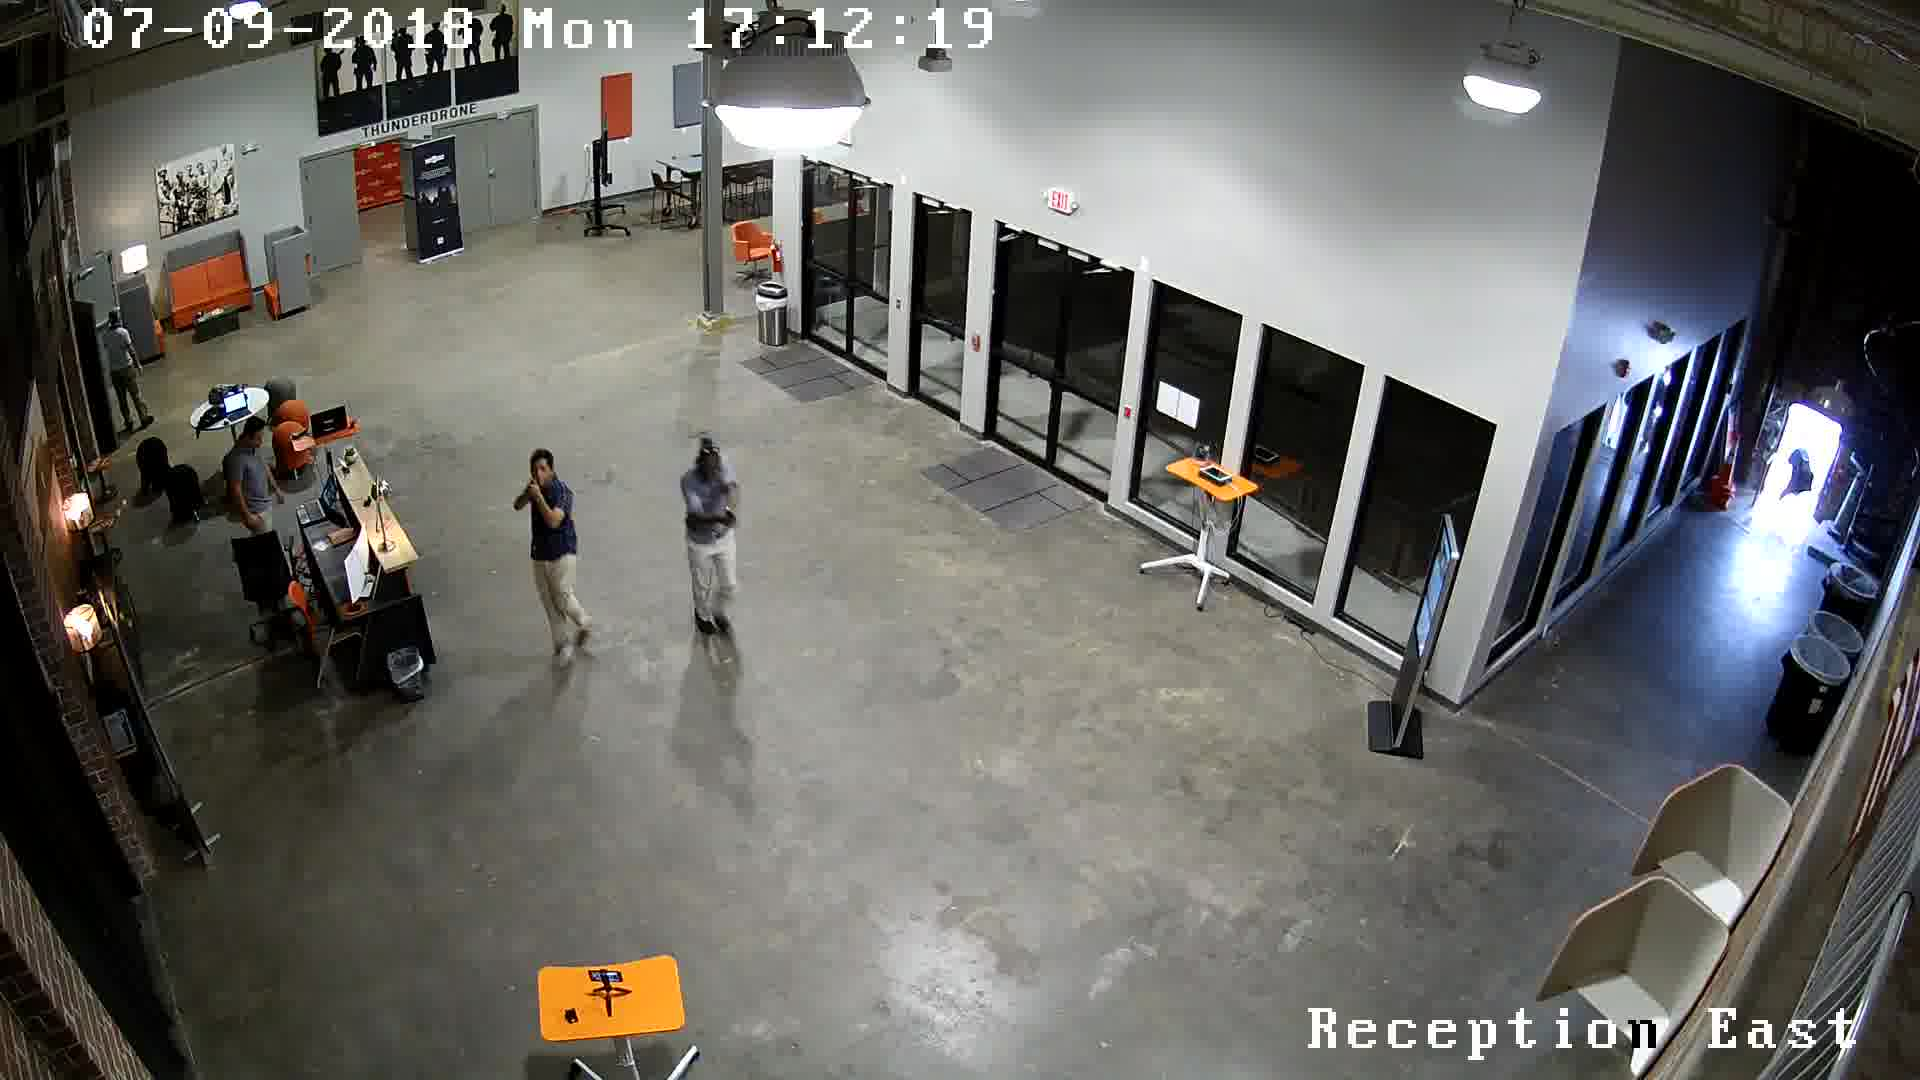pistol: (705, 502, 760, 546), (516, 475, 547, 510)
